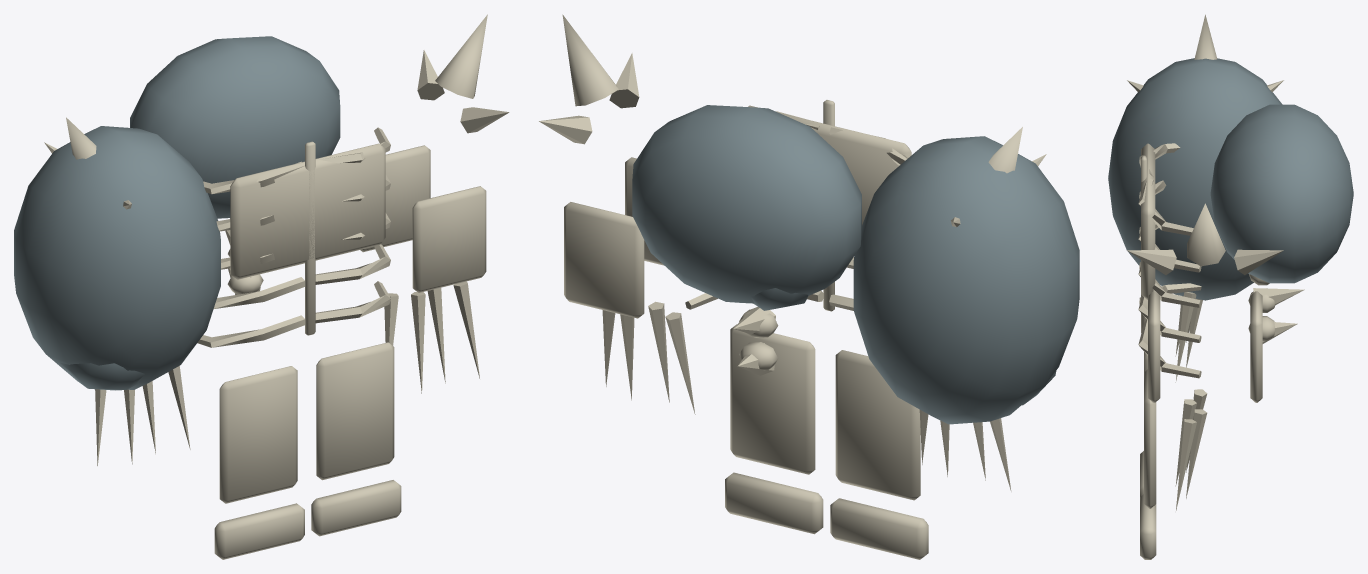
The model's file is Deformaciones.fbx.
The picture shows the model from 3 angles, left to right: view 1: azimuth 30°, elevation 25°; view 2: azimuth 150°, elevation 25°; view 3: azimuth 270°, elevation 25°; orthographic projection. The views are drawn at different scales.
Visible parts, largest first — view 1: Deformacion_BrazoHinchado__BrazoD__Piel, Deformacion_Joroba__Torso__Piel, Deformacion_Placas__Torso__Hueso, Deformacion_Placas__PiernaD__Hueso, Deformacion_Placas__PiernaI__Hueso, Deformacion_Placas__BrazoI__Hueso, Deformacion_Costillas__Torso__Hueso, Deformacion_Hombros__BrazoI__Hueso, Deformacion_Garras__BrazoI__Hueso, Deformacion_Garras__BrazoD__Hueso, Deformacion_Hombros__BrazoD__Hueso; view 2: Deformacion_BrazoHinchado__BrazoD__Piel, Deformacion_Joroba__Torso__Piel, Deformacion_Placas__PiernaI__Hueso, Deformacion_Placas__PiernaD__Hueso, Deformacion_Placas__BrazoI__Hueso, Deformacion_Hombros__BrazoI__Hueso, Deformacion_Placas__Torso__Hueso, Deformacion_Garras__BrazoI__Hueso, Deformacion_Costillas__Torso__Hueso, Deformacion_Garras__BrazoD__Hueso, Deformacion_Vertebras__Torso__Hueso, Deformacion_Hombros__BrazoD__Hueso (+1 smaller); view 3: Deformacion_BrazoHinchado__BrazoD__Piel, Deformacion_Joroba__Torso__Piel, Deformacion_Costillas__Torso__Hueso, Deformacion_Hombros__BrazoI__Hueso, Deformacion_Placas__BrazoI__Hueso, Deformacion_Placas__PiernaI__Hueso, Deformacion_Garras__BrazoI__Hueso, Deformacion_Placas__Torso__Hueso, Deformacion_Garras__BrazoD__Hueso, Deformacion_Hombros__BrazoD__Hueso, Deformacion_Espinas__Torso__Hueso, Deformacion_Vertebras__Torso__Hueso.
Part boxes in pixels (bbox=[...]): Deformacion_BrazoHinchado__BrazoD__Piel: bbox=[14, 126, 220, 390]; Deformacion_Joroba__Torso__Piel: bbox=[130, 36, 340, 218]; Deformacion_Placas__Torso__Hueso: bbox=[230, 143, 385, 279]; Deformacion_Placas__PiernaD__Hueso: bbox=[214, 366, 304, 559]; Deformacion_Placas__PiernaI__Hueso: bbox=[311, 342, 401, 536]; Deformacion_Placas__BrazoI__Hueso: bbox=[360, 145, 486, 292]; Deformacion_Costillas__Torso__Hueso: bbox=[197, 127, 390, 347]; Deformacion_Hombros__BrazoI__Hueso: bbox=[417, 14, 509, 133]; Deformacion_Garras__BrazoI__Hueso: bbox=[384, 281, 479, 393]; Deformacion_Garras__BrazoD__Hueso: bbox=[95, 366, 190, 465]; Deformacion_Hombros__BrazoD__Hueso: bbox=[44, 117, 131, 209]; Deformacion_BrazoHinchado__BrazoD__Piel: bbox=[853, 136, 1079, 424]; Deformacion_Joroba__Torso__Piel: bbox=[632, 105, 861, 310]; Deformacion_Placas__PiernaI__Hueso: bbox=[725, 324, 823, 534]; Deformacion_Placas__PiernaD__Hueso: bbox=[830, 350, 928, 559]; Deformacion_Placas__BrazoI__Hueso: bbox=[564, 157, 663, 318]; Deformacion_Hombros__BrazoI__Hueso: bbox=[539, 14, 639, 144]; Deformacion_Placas__Torso__Hueso: bbox=[748, 105, 911, 224]; Deformacion_Garras__BrazoI__Hueso: bbox=[602, 301, 695, 414]; Deformacion_Costillas__Torso__Hueso: bbox=[685, 100, 907, 311]; Deformacion_Garras__BrazoD__Hueso: bbox=[919, 410, 1011, 491]; Deformacion_Vertebras__Torso__Hueso: bbox=[739, 309, 778, 370]; Deformacion_Hombros__BrazoD__Hueso: bbox=[951, 127, 1046, 227]; Deformacion_BrazoHinchado__BrazoD__Piel: bbox=[1108, 58, 1282, 300]; Deformacion_Joroba__Torso__Piel: bbox=[1210, 104, 1353, 283]; Deformacion_Costillas__Torso__Hueso: bbox=[1138, 143, 1201, 378]; Deformacion_Hombros__BrazoI__Hueso: bbox=[1127, 203, 1283, 275]; Deformacion_Placas__BrazoI__Hueso: bbox=[1148, 291, 1262, 402]; Deformacion_Placas__PiernaI__Hueso: bbox=[1140, 369, 1156, 559]; Deformacion_Garras__BrazoI__Hueso: bbox=[1175, 389, 1207, 510]; Deformacion_Placas__Torso__Hueso: bbox=[1141, 143, 1155, 299]; Deformacion_Garras__BrazoD__Hueso: bbox=[1175, 292, 1202, 382]; Deformacion_Hombros__BrazoD__Hueso: bbox=[1127, 14, 1283, 92]; Deformacion_Espinas__Torso__Hueso: bbox=[1253, 288, 1304, 343]; Deformacion_Vertebras__Torso__Hueso: bbox=[1248, 274, 1275, 340].
Bounding box in the file's own units: 1.33 × 1.24 × 0.672.
